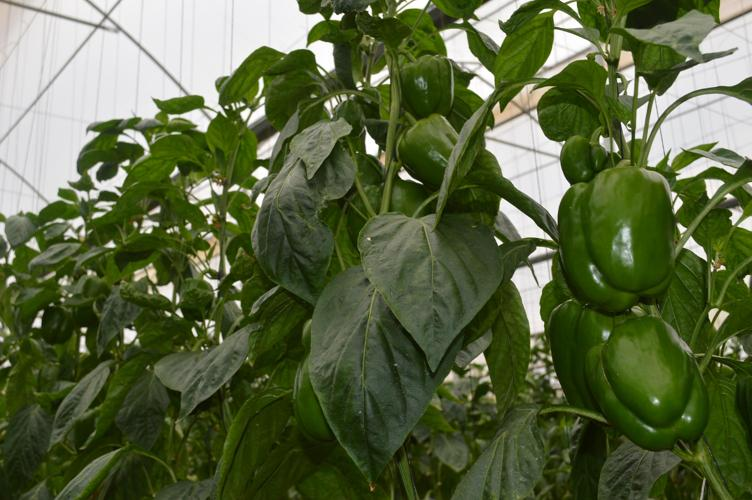BellPepper: (557, 166, 680, 309), (586, 318, 708, 447), (546, 304, 613, 418), (391, 113, 456, 190), (288, 357, 338, 442), (342, 179, 432, 226), (398, 54, 448, 114), (556, 134, 602, 182)
